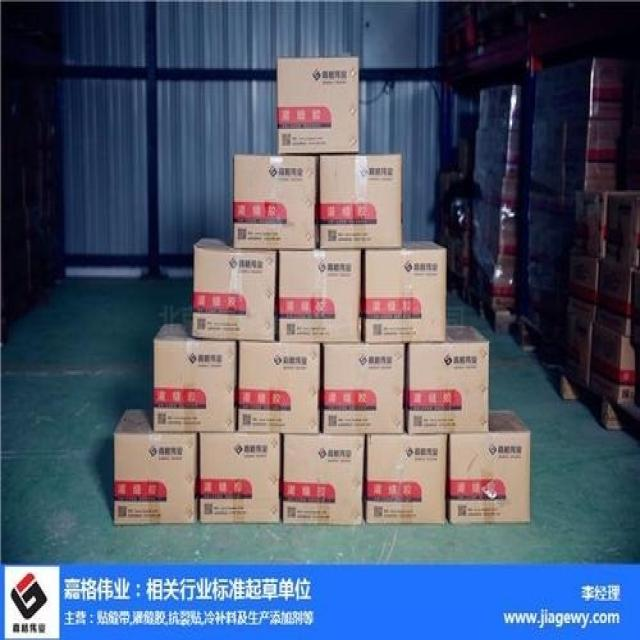box: (112, 408, 199, 527), (449, 410, 531, 522), (407, 325, 489, 435), (155, 324, 237, 433), (193, 236, 276, 340), (365, 240, 447, 343), (233, 154, 320, 249), (277, 56, 359, 154), (238, 340, 322, 434), (280, 249, 362, 344), (283, 433, 366, 526), (199, 433, 283, 524), (321, 154, 402, 247), (323, 344, 405, 435), (366, 434, 448, 525)
